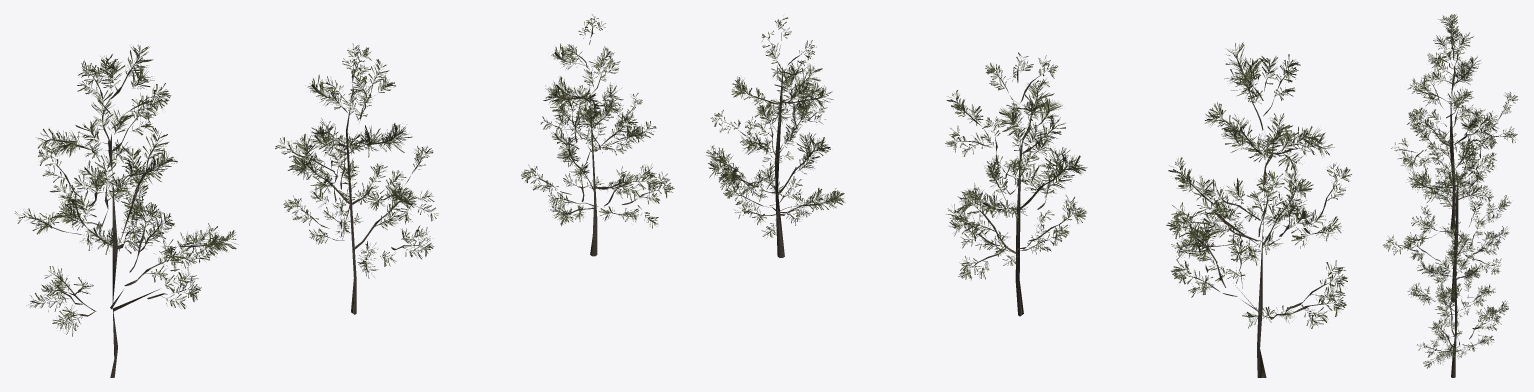
Rendered from pine_sapling_small.glb.
3 renders of one model, left to right at view 1: azimuth 30°, elevation 25°; view 2: azimuth 150°, elevation 25°; view 3: azimuth 270°, elevation 25°, orthographic. The views are drawn at different scales.
Visible parts, largest first — view 1: pine_sapling_small_a, pine_sapling_small_b, pine_sapling_small_c; view 2: pine_sapling_small_a, pine_sapling_small_b, pine_sapling_small_c; view 3: pine_sapling_small_a, pine_sapling_small_b, pine_sapling_small_c.
Boxes of the visible parts, left/top/right/bottom form: pine_sapling_small_a: left=14, top=44, right=238, bottom=377; pine_sapling_small_b: left=275, top=43, right=438, bottom=314; pine_sapling_small_c: left=521, top=14, right=674, bottom=256; pine_sapling_small_a: left=1166, top=42, right=1351, bottom=377; pine_sapling_small_b: left=945, top=52, right=1087, bottom=316; pine_sapling_small_c: left=706, top=17, right=845, bottom=257; pine_sapling_small_a: left=1391, top=14, right=1518, bottom=229; pine_sapling_small_b: left=1383, top=133, right=1511, bottom=302; pine_sapling_small_c: left=1407, top=221, right=1508, bottom=377.
Size of the model in its own units: 2.64 by 1.3 by 0.768.
Materials: 2 (2 with a texture image).
